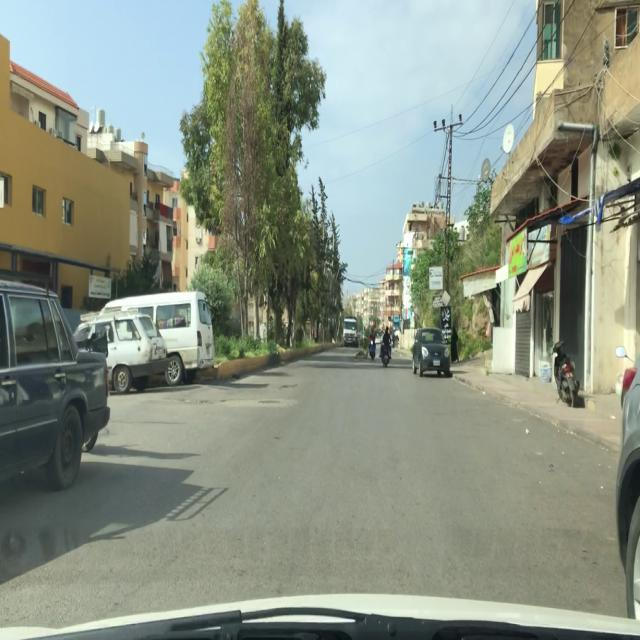Pothole: (282, 382, 298, 389)
